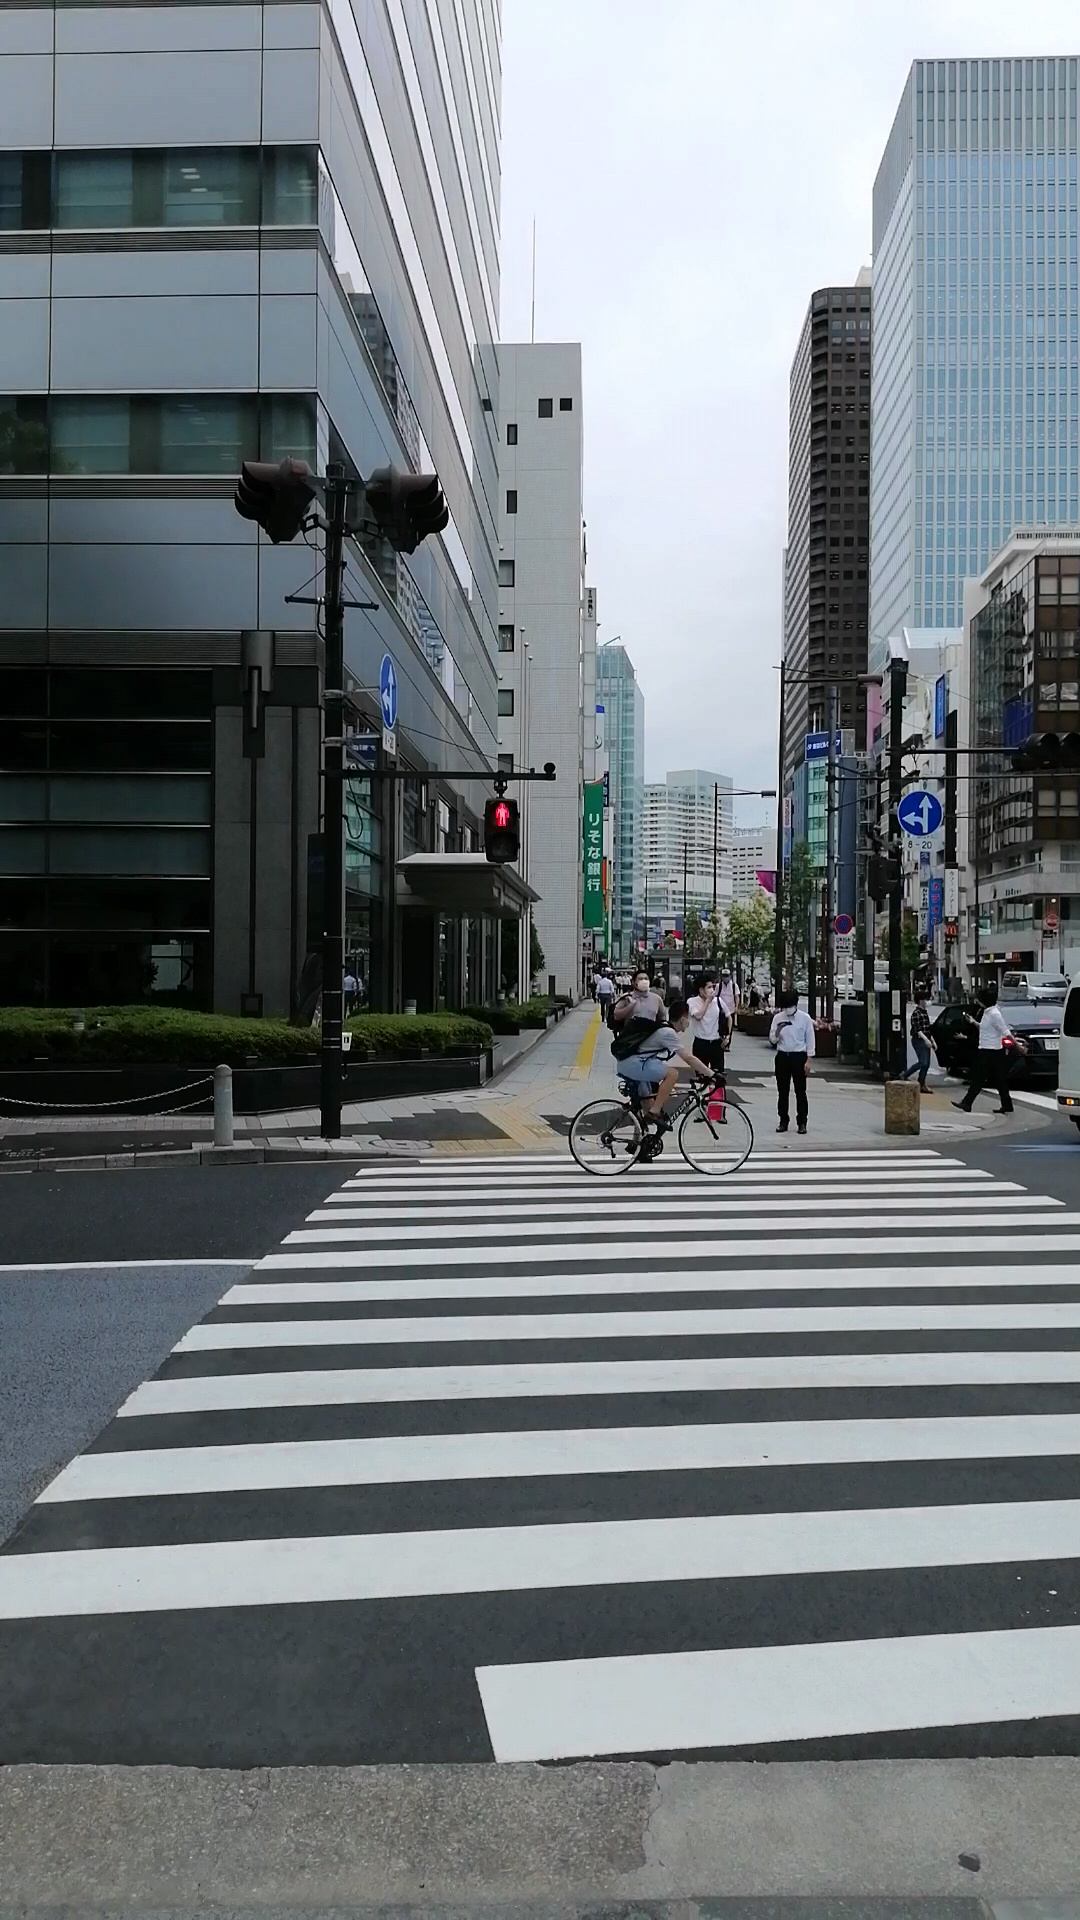red: (484, 798, 518, 862)
